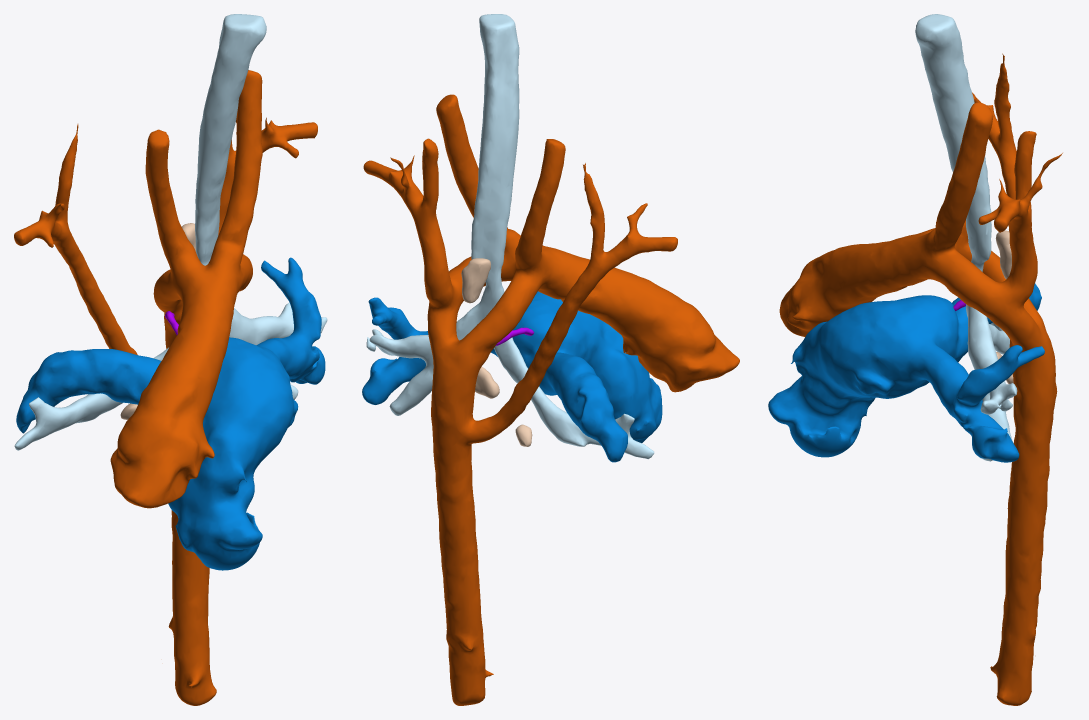
File: {I,D,D,} DAA.gltf
3 views of the same model, side by side, from view 1: azimuth 30°, elevation 25°; view 2: azimuth 150°, elevation 25°; view 3: azimuth 270°, elevation 25° (orthographic). The views are drawn at different scales.
Visible parts, largest first — view 1: aorta, pulmonary artery, trachea; view 2: aorta, trachea, pulmonary artery, esophagus; view 3: aorta, pulmonary artery, trachea, esophagus.
Boxes of the visible parts, x1=… form: aorta: x1=14, y1=70, x2=317, y2=705; pulmonary artery: x1=16, y1=257, x2=325, y2=570; trachea: x1=14, y1=14, x2=327, y2=450; aorta: x1=363, y1=94, x2=739, y2=705; trachea: x1=366, y1=14, x2=654, y2=459; pulmonary artery: x1=362, y1=291, x2=662, y2=462; esophagus: x1=461, y1=258, x2=532, y2=446; aorta: x1=779, y1=53, x2=1062, y2=705; pulmonary artery: x1=768, y1=283, x2=1044, y2=462; trachea: x1=915, y1=14, x2=1017, y2=461; esophagus: x1=995, y1=230, x2=1013, y2=383.
Size of the model in its own units: 45.54 by 95.68 by 38.74.
